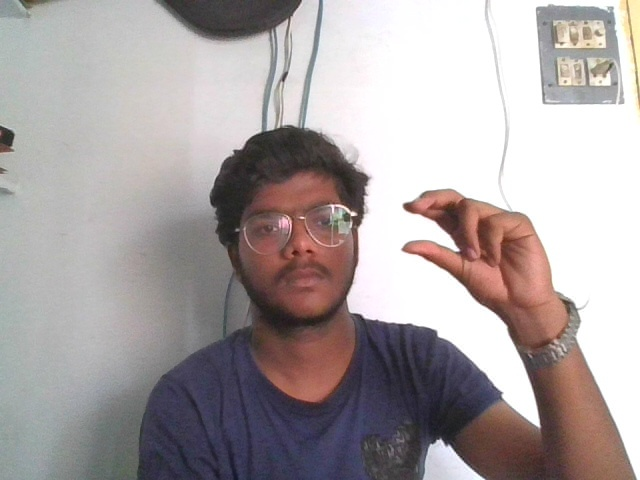No: (401, 186, 555, 307)
